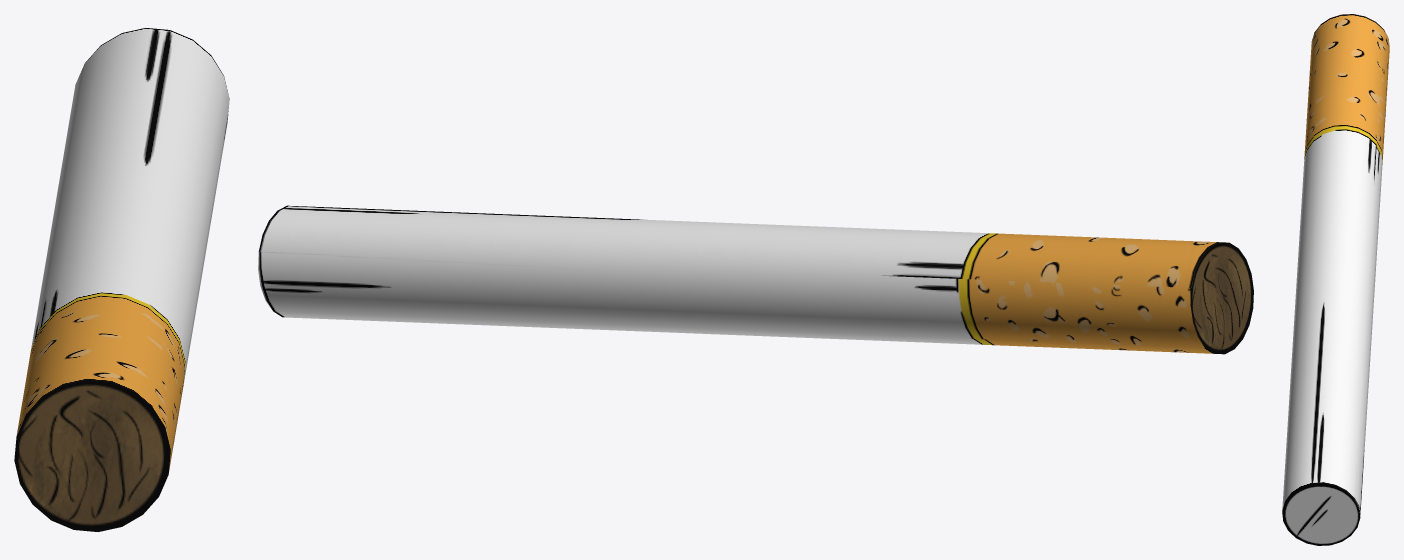
File: cigarette.fbx
The picture shows the model from 3 angles, left to right: view 1: azimuth 90°, elevation 25°; view 2: azimuth 150°, elevation 25°; view 3: azimuth 270°, elevation 25°; orthographic projection. The views are drawn at different scales.
Visible parts, largest first — view 1: cigarette; view 2: cigarette; view 3: cigarette.
Boxes of the visible parts, x1,y1,x2,y2 form: cigarette: (14,28,229,531); cigarette: (258,205,1253,354); cigarette: (1282,14,1389,545).
Bounding box in the file's own units: 0.1232 × 0.0377 × 0.017.
Materials: 1 (1 with a texture image).
